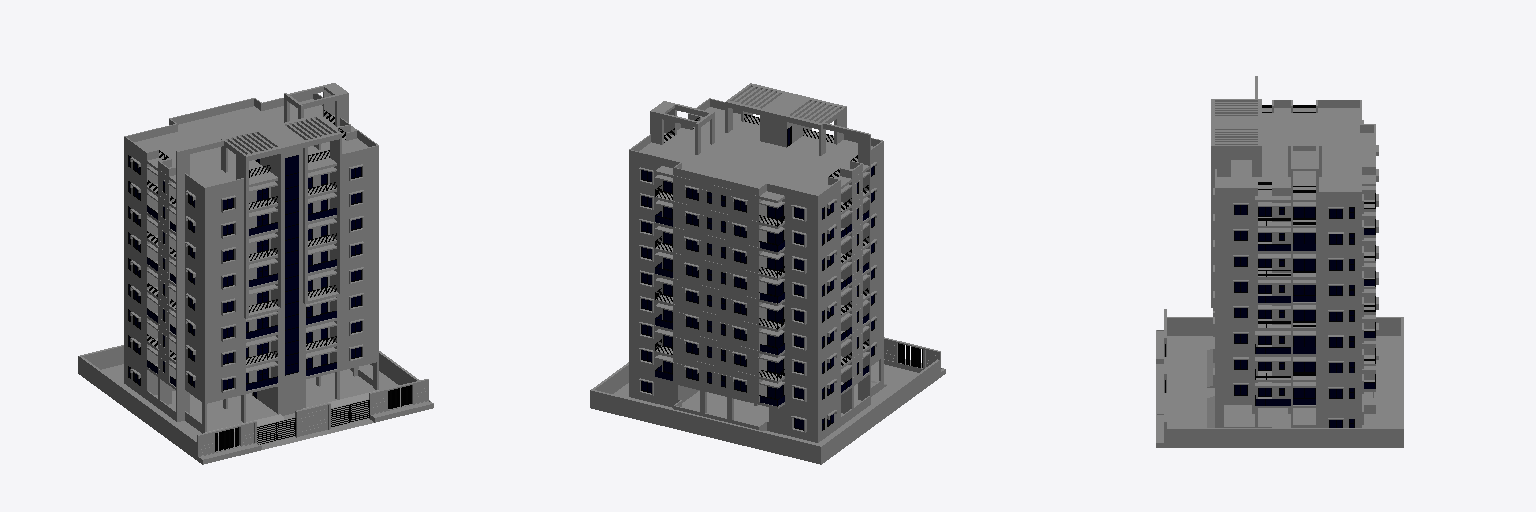
The model's file is edificioV1.obj.
3 renders of one model, left to right at view 1: azimuth 30°, elevation 25°; view 2: azimuth 150°, elevation 25°; view 3: azimuth 270°, elevation 25°, orthographic.
Visible parts, largest first — view 1: AB17_OBJ_01, AB17_OBJ_15, AB17_OBJ_03, AB17_OBJ_09, AB17_OBJ_19, AB17_OBJ_13, AB17_OBJ_07, AB17_OBJ_06, AB17_OBJ_12, AB17_OBJ_08, AB17_OBJ_11, AB17_OBJ_10; view 2: AB17_OBJ_04, AB17_OBJ_15, AB17_OBJ_03, AB17_OBJ_11, AB17_OBJ_12, AB17_OBJ_09, AB17_OBJ_06, AB17_OBJ_08, AB17_OBJ_13, AB17_OBJ_10, AB17_OBJ_07; view 3: AB17_OBJ_02, AB17_OBJ_15, AB17_OBJ_11, AB17_OBJ_13, AB17_OBJ_12, AB17_OBJ_09, AB17_OBJ_10, AB17_OBJ_08, AB17_OBJ_06, AB17_OBJ_04, AB17_OBJ_07, AB17_OBJ_01.
Boxes of the visible parts, x1=… form: AB17_OBJ_01: x1=204, y1=153, x2=378, y2=401; AB17_OBJ_15: x1=124, y1=83, x2=378, y2=195; AB17_OBJ_03: x1=125, y1=145, x2=203, y2=400; AB17_OBJ_09: x1=128, y1=155, x2=361, y2=390; AB17_OBJ_19: x1=246, y1=158, x2=336, y2=393; AB17_OBJ_13: x1=102, y1=364, x2=400, y2=450; AB17_OBJ_07: x1=197, y1=379, x2=433, y2=464; AB17_OBJ_06: x1=124, y1=353, x2=378, y2=431; AB17_OBJ_12: x1=78, y1=345, x2=419, y2=459; AB17_OBJ_08: x1=130, y1=157, x2=363, y2=392; AB17_OBJ_11: x1=147, y1=115, x2=356, y2=389; AB17_OBJ_10: x1=246, y1=174, x2=327, y2=383; AB17_OBJ_04: x1=629, y1=158, x2=818, y2=409; AB17_OBJ_15: x1=629, y1=83, x2=883, y2=203; AB17_OBJ_03: x1=819, y1=150, x2=882, y2=408; AB17_OBJ_11: x1=655, y1=127, x2=869, y2=408; AB17_OBJ_12: x1=590, y1=359, x2=939, y2=464; AB17_OBJ_09: x1=641, y1=166, x2=874, y2=399; AB17_OBJ_06: x1=629, y1=357, x2=883, y2=439; AB17_OBJ_08: x1=639, y1=162, x2=877, y2=401; AB17_OBJ_13: x1=613, y1=361, x2=917, y2=444; AB17_OBJ_10: x1=663, y1=181, x2=783, y2=399; AB17_OBJ_07: x1=884, y1=337, x2=945, y2=377; AB17_OBJ_02: x1=1217, y1=190, x2=1359, y2=407; AB17_OBJ_15: x1=1211, y1=76, x2=1375, y2=199; AB17_OBJ_11: x1=1255, y1=108, x2=1375, y2=407; AB17_OBJ_13: x1=1156, y1=336, x2=1400, y2=427; AB17_OBJ_12: x1=1167, y1=317, x2=1403, y2=447; AB17_OBJ_09: x1=1234, y1=205, x2=1354, y2=398; AB17_OBJ_10: x1=1258, y1=207, x2=1315, y2=397; AB17_OBJ_08: x1=1213, y1=120, x2=1378, y2=393; AB17_OBJ_06: x1=1215, y1=392, x2=1375, y2=427; AB17_OBJ_04: x1=1360, y1=191, x2=1375, y2=405; AB17_OBJ_07: x1=1156, y1=309, x2=1166, y2=447; AB17_OBJ_01: x1=1211, y1=177, x2=1216, y2=401.
Bounding box in the file's own units: 1128 × 1260 × 1050.